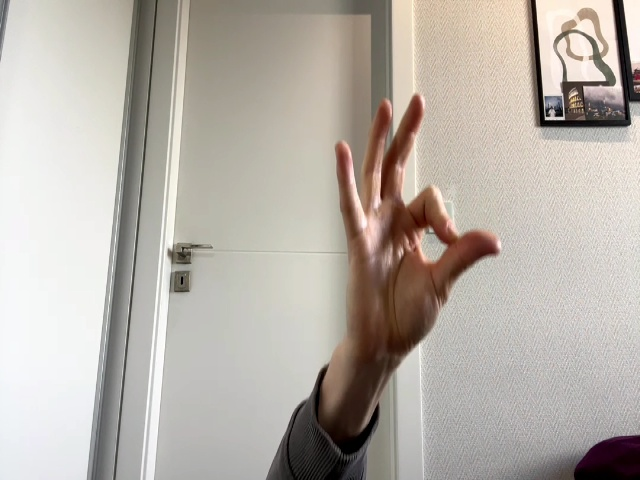S: (335, 93, 502, 341)
